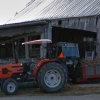Tractor: (5, 39, 73, 92)
